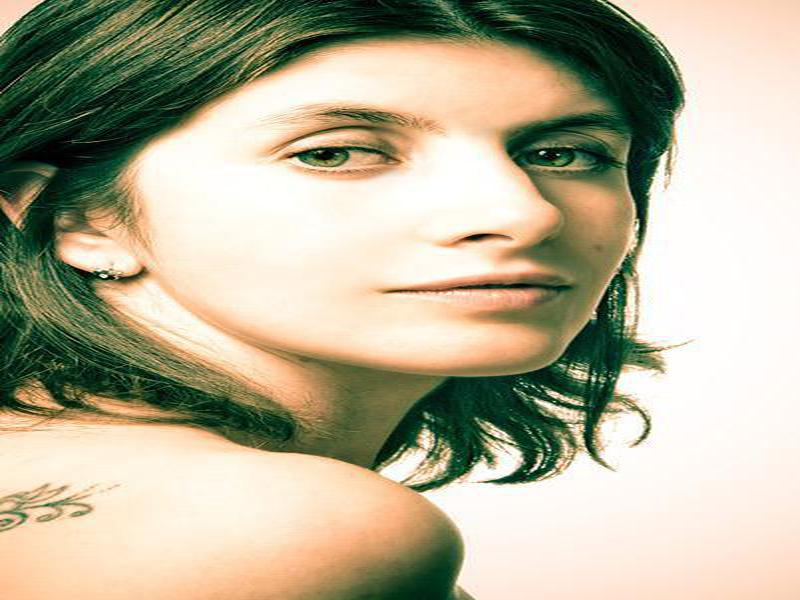person: (1, 1, 684, 589)
